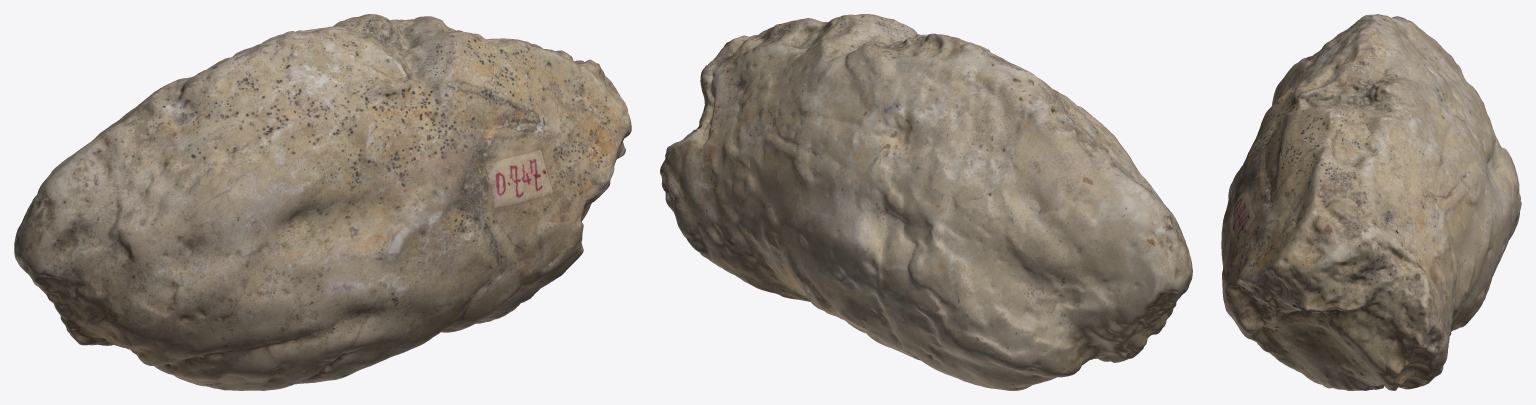
Rendered from EWS0014180.glb.
3 views of the same model, side by side, from view 1: azimuth 30°, elevation 25°; view 2: azimuth 150°, elevation 25°; view 3: azimuth 270°, elevation 25° (orthographic). The views are drawn at different scales.
Visible parts, largest first — view 1: input; view 2: input; view 3: input.
Part boxes in pixels (left/top/right/bottom): input: left=14, top=14, right=631, bottom=390; input: left=660, top=14, right=1192, bottom=390; input: left=1221, top=14, right=1521, bottom=390.
Bounding box in the file's own units: 0.1033 × 0.0585 × 0.053.
1 material, 1 textured.
